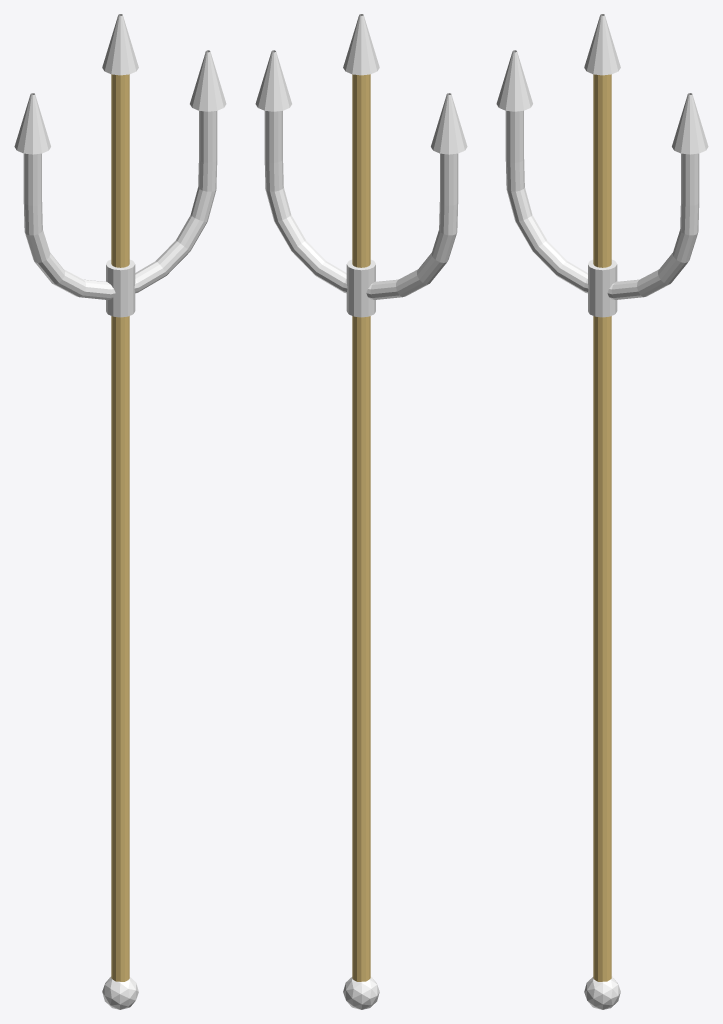
The model's file is Trident.fbx.
The picture shows the model from 3 angles, left to right: view 1: azimuth 30°, elevation 25°; view 2: azimuth 150°, elevation 25°; view 3: azimuth 330°, elevation 25°; orthographic projection.
Visible parts, largest first — view 1: Cylinder, Rectangle_sweep, Cylinder.1, Cone.2, Cone.1, Cone, Sphere; view 2: Cylinder, Rectangle_sweep, Cylinder.1, Cone.2, Cone.1, Cone, Sphere; view 3: Cylinder, Rectangle_sweep, Cylinder.1, Cone, Cone.2, Cone.1, Sphere.
Part boxes in pixels (x1,y1,x2,y2): Cylinder: (111, 74, 129, 981); Rectangle_sweep: (23, 111, 217, 299); Cylinder.1: (106, 259, 135, 317); Cone.2: (190, 50, 226, 111); Cone.1: (14, 93, 50, 154); Cone: (102, 14, 138, 75); Sphere: (102, 976, 138, 1009); Cylinder: (352, 74, 370, 981); Rectangle_sweep: (264, 111, 458, 299); Cylinder.1: (346, 259, 375, 317); Cone.2: (255, 50, 291, 111); Cone.1: (431, 93, 467, 154); Cone: (343, 14, 379, 75); Sphere: (343, 976, 379, 1009); Cylinder: (593, 74, 611, 981); Rectangle_sweep: (505, 110, 699, 299); Cylinder.1: (588, 259, 617, 317); Cone: (584, 14, 620, 75); Cone.2: (672, 93, 708, 154); Cone.1: (496, 50, 532, 111); Sphere: (584, 976, 620, 1009).
Size of the model in its own units: 6714 by 30777 by 1032.
